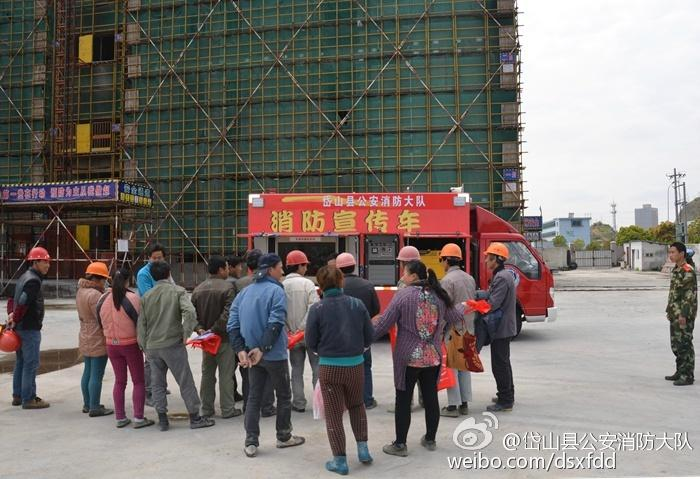helmet: (1, 323, 25, 355), (85, 263, 111, 281), (400, 247, 423, 266), (335, 254, 359, 272), (485, 244, 510, 261), (286, 252, 310, 269), (442, 244, 464, 260), (30, 250, 52, 263)
